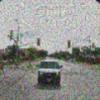cars: (36, 59, 62, 86)
